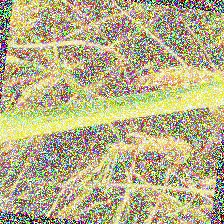Bacterial_Leaf_Blight: (39, 104, 61, 125), (4, 129, 22, 142), (210, 90, 223, 101), (169, 94, 184, 101), (113, 100, 124, 107)
